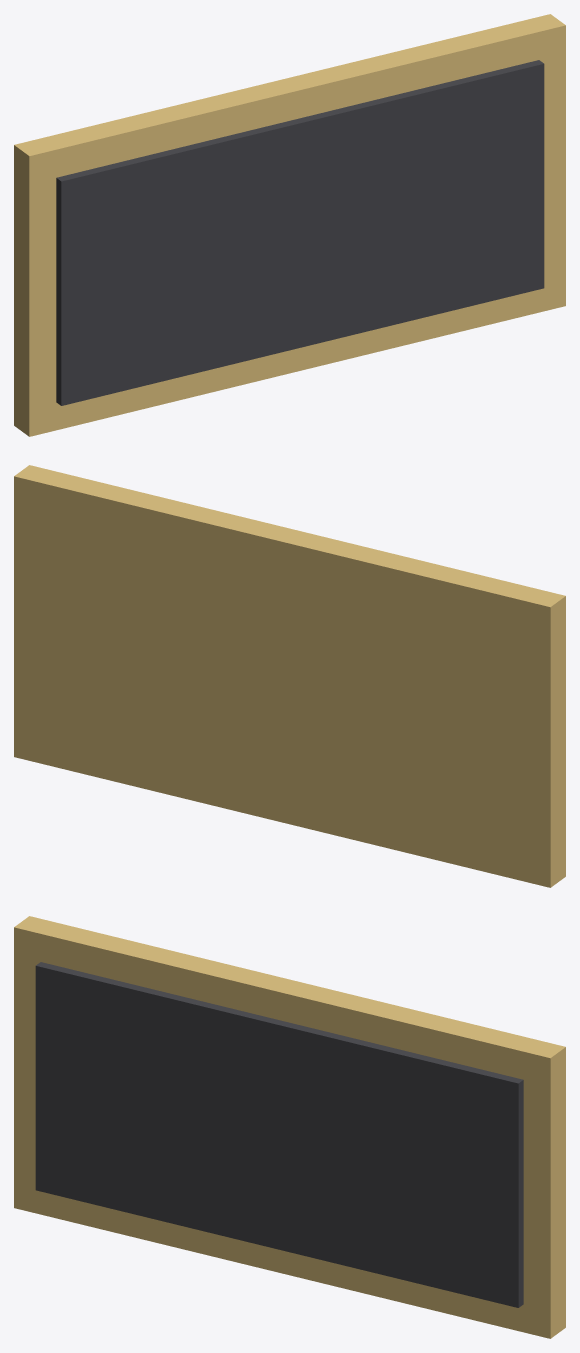
The model's file is PRP_PlacaNumero.fbx.
3 renders of one model, top to bottom at view 1: azimuth 30°, elevation 25°; view 2: azimuth 150°, elevation 25°; view 3: azimuth 330°, elevation 25°, orthographic.
Parts seen in each view (by area): view 1: PRP_PlacaNumero; view 2: PRP_PlacaNumero; view 3: PRP_PlacaNumero.
Part boxes in pixels (x1=…): PRP_PlacaNumero: x1=14, y1=14, x2=565, y2=436; PRP_PlacaNumero: x1=14, y1=465, x2=565, y2=887; PRP_PlacaNumero: x1=14, y1=916, x2=565, y2=1338.
Size of the model in its own units: 0.3 by 0.15 by 0.02.
